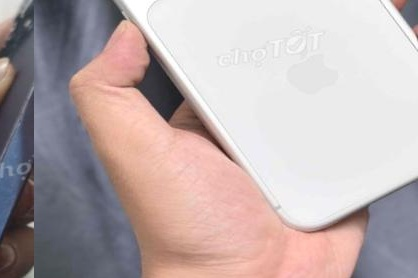scratch: (16, 39, 34, 112)
